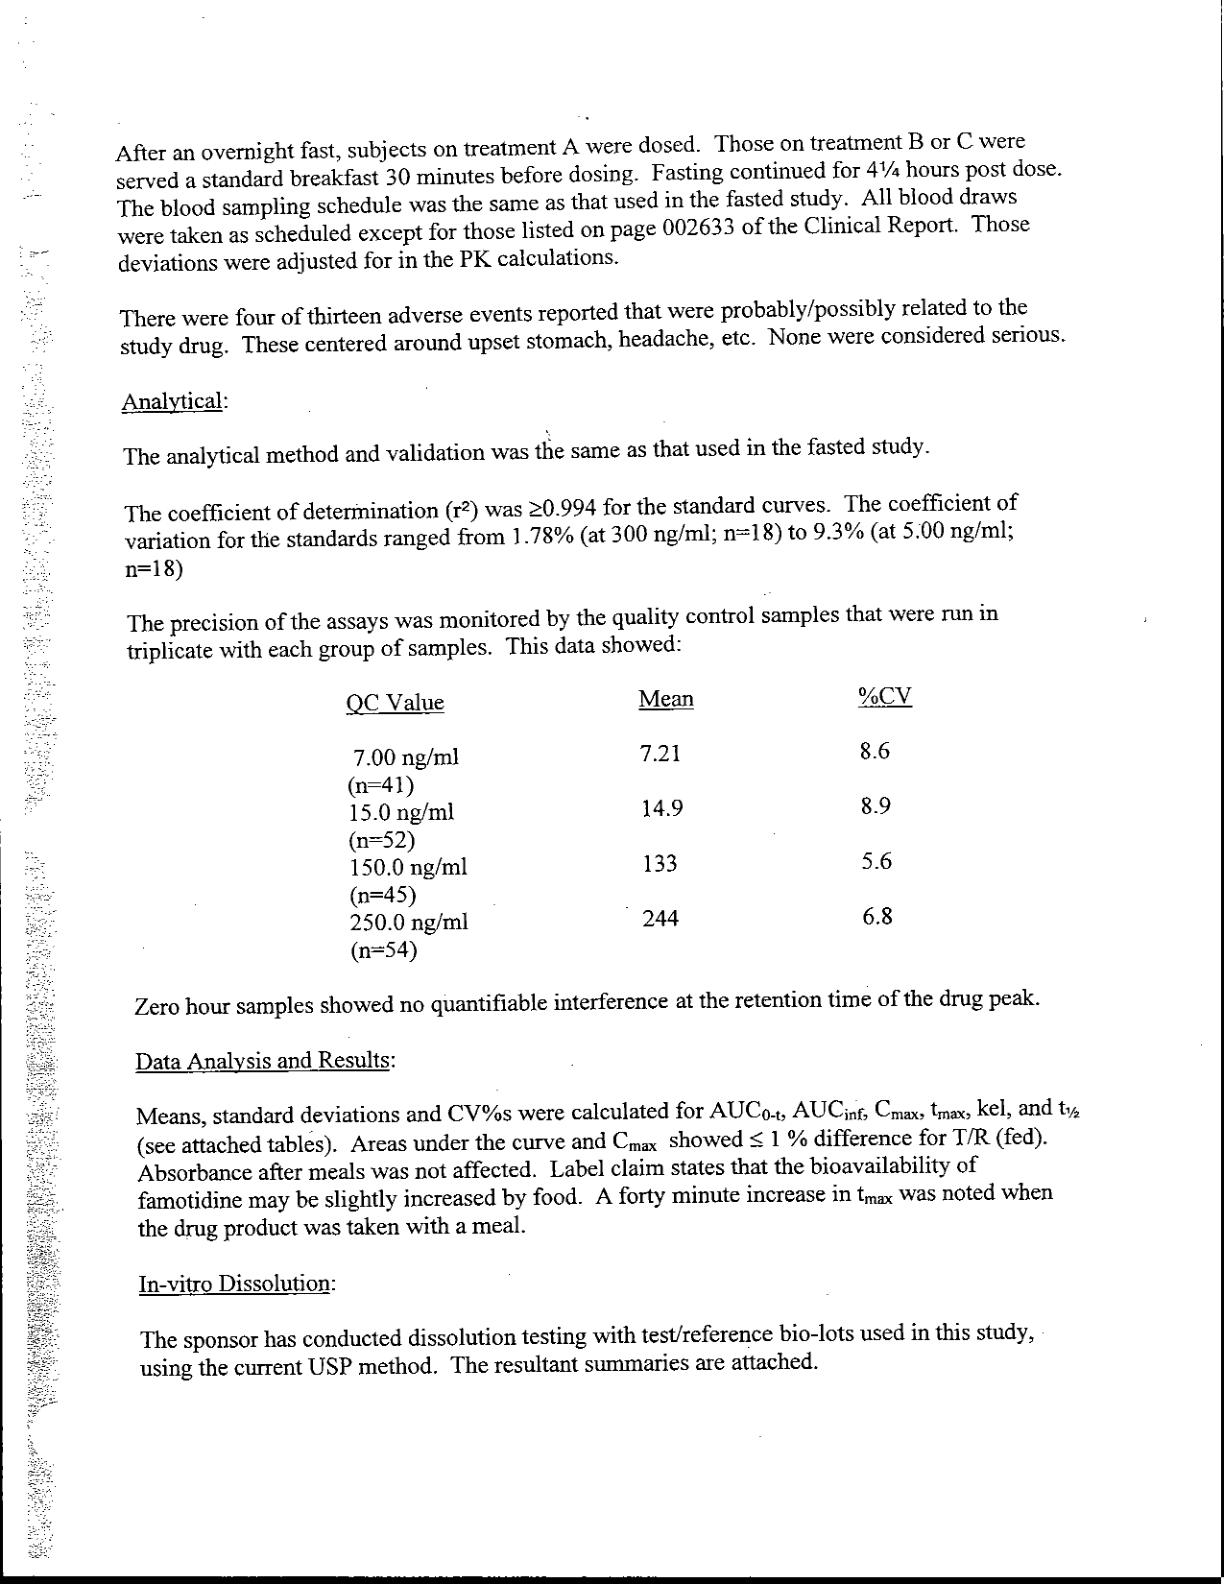nolines: (342, 681, 913, 966)
